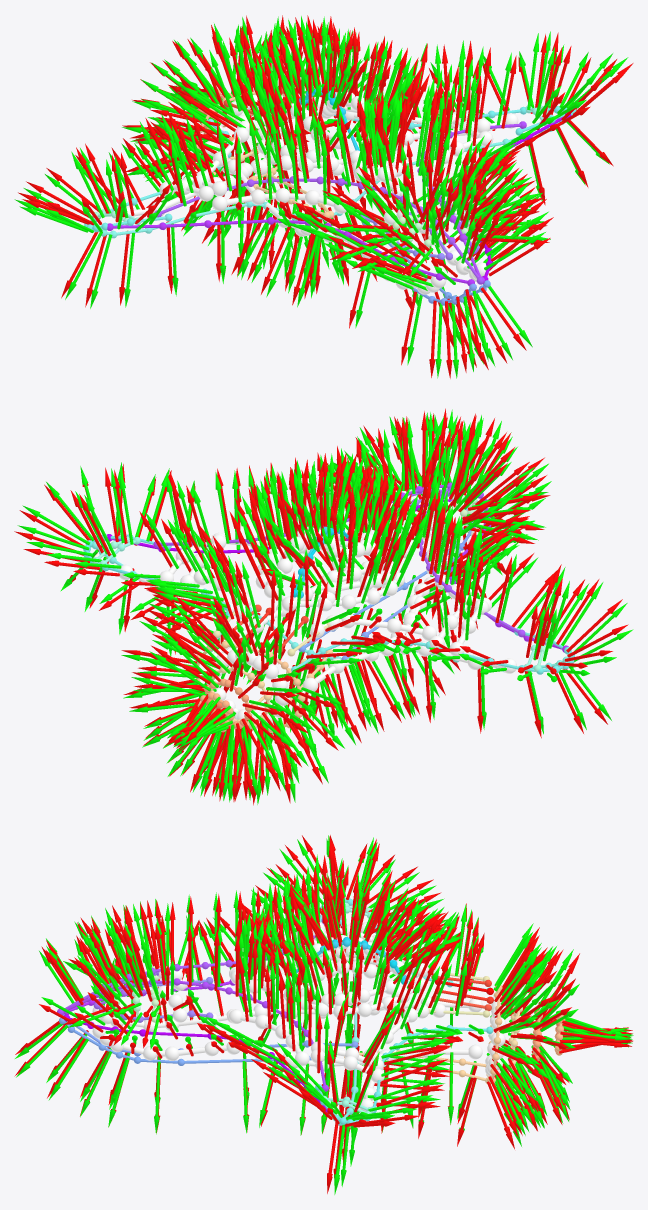
File: author1_ship.gltf
3 views of the same model, one above another, from view 1: azimuth 30°, elevation 25°; view 2: azimuth 150°, elevation 25°; view 3: azimuth 270°, elevation 25° (orthographic). The views are drawn at different scales.
Size of the model in its own units: 0.8816 by 0.3868 by 0.8385.
